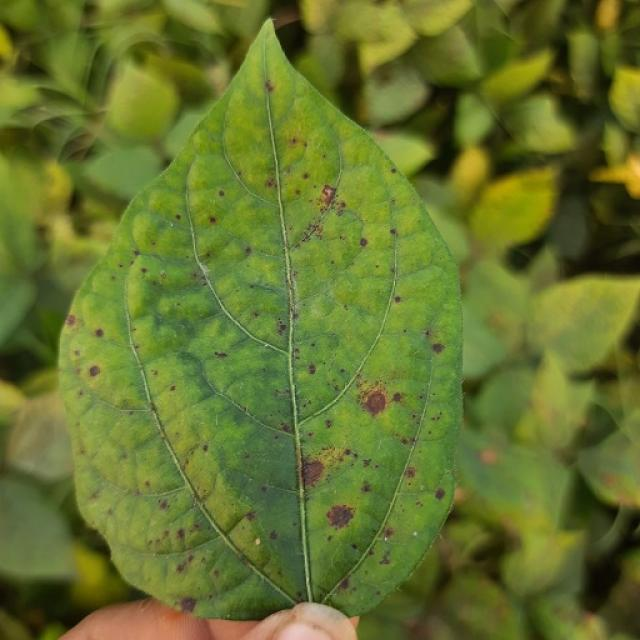Anthracnose: (303, 439, 357, 490), (353, 381, 390, 421), (325, 503, 356, 530), (301, 458, 325, 487), (320, 184, 337, 204), (307, 224, 324, 240), (180, 597, 197, 613), (602, 472, 619, 486), (431, 342, 445, 354), (404, 466, 416, 479), (338, 577, 350, 590), (88, 365, 100, 377), (379, 553, 391, 565), (434, 487, 445, 500), (264, 79, 274, 93), (65, 314, 76, 326), (158, 498, 169, 510), (281, 423, 292, 434), (277, 321, 286, 334), (214, 351, 228, 359), (94, 328, 104, 338), (294, 590, 304, 600), (290, 308, 298, 320), (307, 364, 316, 374), (359, 237, 368, 247), (269, 530, 278, 540), (244, 246, 252, 255), (260, 485, 268, 493), (393, 296, 402, 303), (208, 217, 216, 224), (291, 137, 298, 145), (133, 249, 140, 257), (390, 228, 397, 236), (141, 267, 148, 274), (169, 385, 176, 392), (218, 190, 225, 197), (351, 543, 358, 550), (202, 444, 208, 452), (303, 172, 309, 179), (390, 168, 397, 174)
Blackgram: (56, 20, 464, 625)
